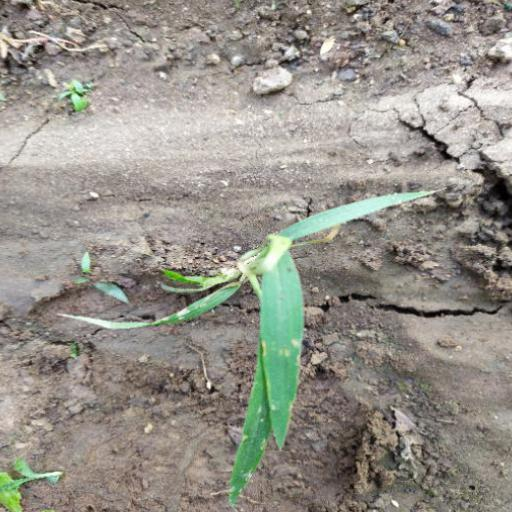weed: (62, 170, 440, 492)
